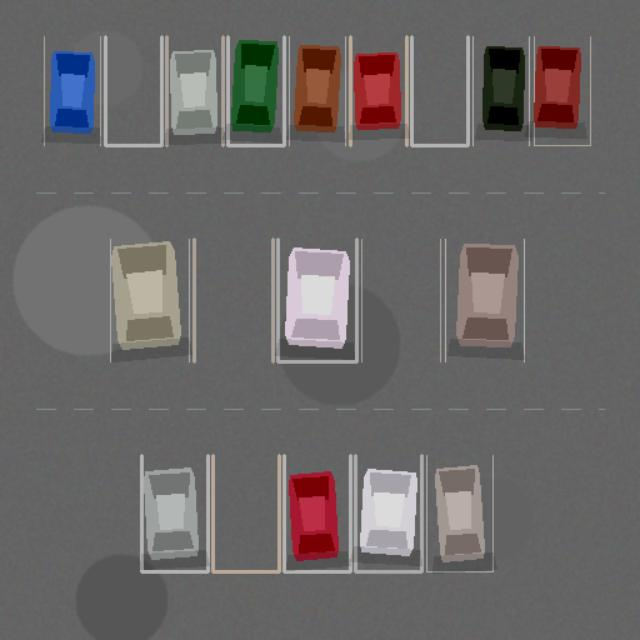space-empty: (194, 239, 273, 361), (361, 239, 440, 361), (212, 455, 279, 571), (105, 36, 161, 145), (411, 36, 467, 145)
space-occupied: (110, 239, 189, 361), (277, 239, 356, 361), (445, 239, 524, 361), (141, 455, 208, 571), (284, 455, 350, 571), (355, 455, 421, 571), (426, 455, 492, 571), (166, 36, 223, 145), (227, 36, 284, 145), (44, 36, 100, 145), (289, 36, 345, 145), (350, 36, 406, 145), (473, 36, 529, 145), (534, 36, 590, 145)
